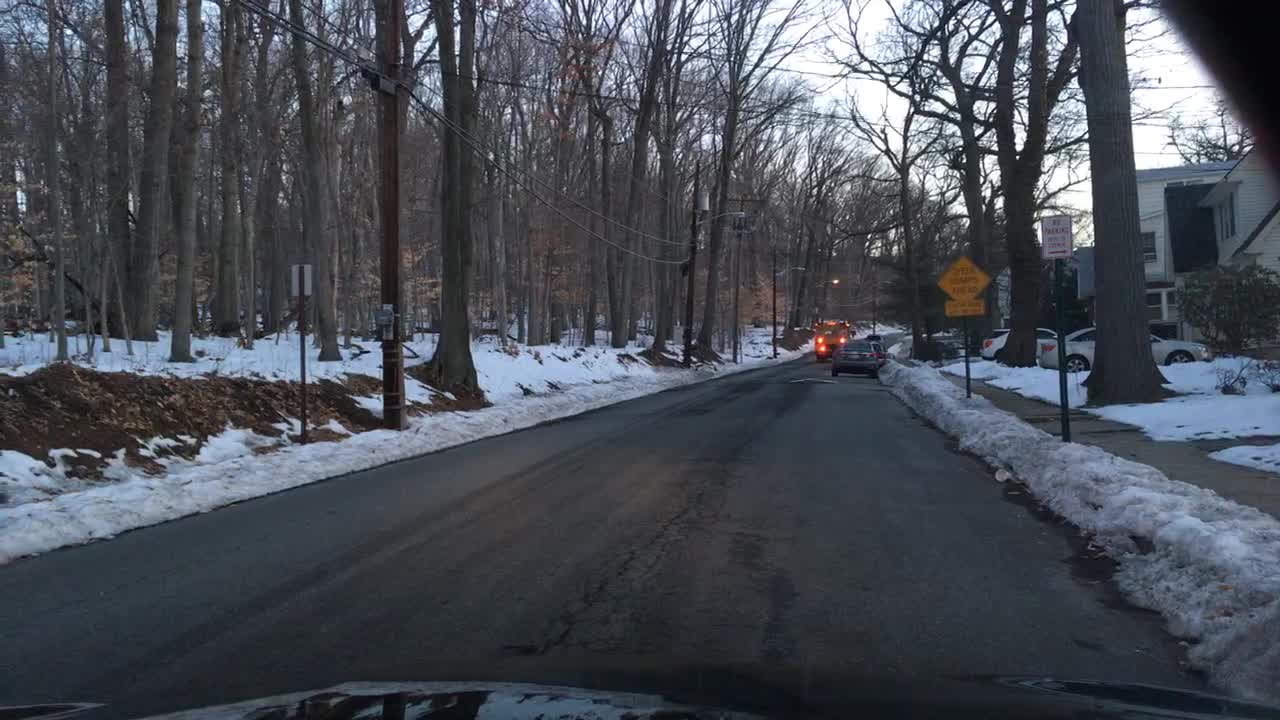car: (1042, 325, 1214, 373), (980, 327, 1057, 363), (829, 337, 889, 376), (811, 318, 855, 363), (874, 340, 894, 360), (865, 331, 892, 342)
traffic sign: (935, 255, 991, 321), (1037, 213, 1077, 259), (287, 262, 315, 297)
